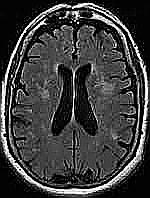Normal_Brain: (1, 3, 147, 195)
